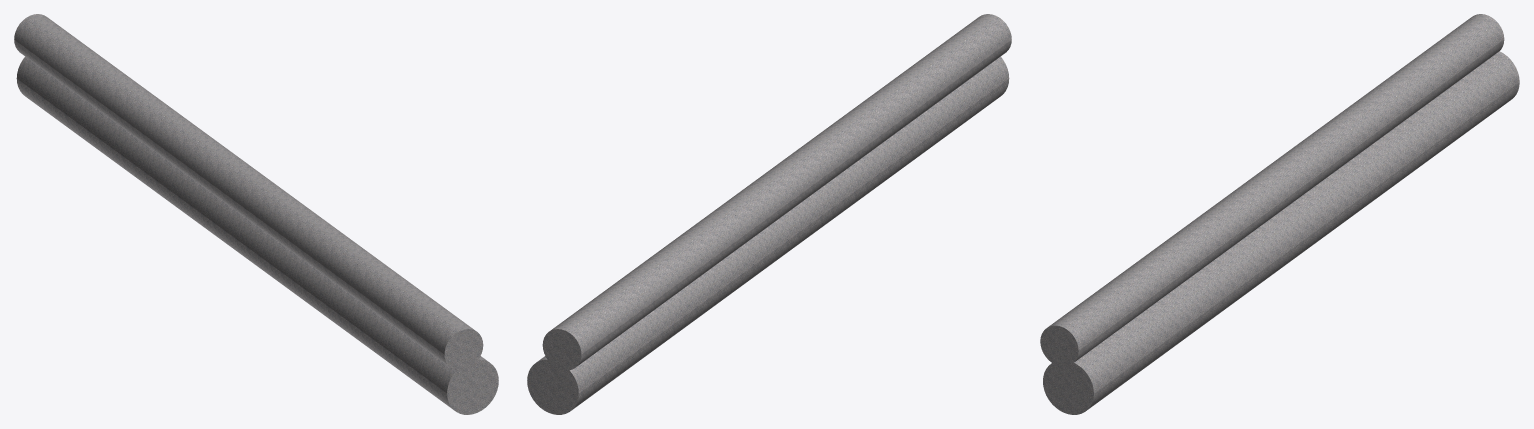
3 renders of one model, left to right at view 1: azimuth 30°, elevation 25°; view 2: azimuth 150°, elevation 25°; view 3: azimuth 330°, elevation 25°, orthographic.
Parts seen in each view (by area): view 1: 0_2_0_3_0_3_1_0_1; view 2: 0_2_0_3_0_3_1_0_1; view 3: 0_2_0_3_0_3_1_0_1.
Boxes of the visible parts, <box> form: 0_2_0_3_0_3_1_0_1: <box>14,14,498,414</box>; 0_2_0_3_0_3_1_0_1: <box>527,14,1011,414</box>; 0_2_0_3_0_3_1_0_1: <box>1040,14,1519,414</box>.
Size of the model in its own units: 0.8403 by 1.29 by 11.53.
Materials: 2 (2 with a texture image).
